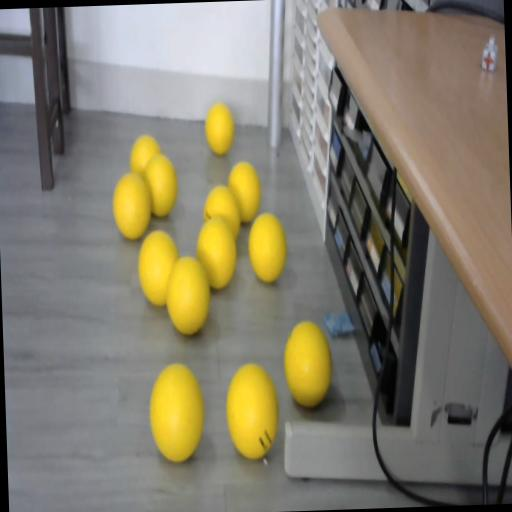FUEL: (147, 360, 205, 462), (223, 361, 280, 459), (282, 317, 334, 409), (162, 255, 212, 336), (194, 215, 238, 289), (246, 210, 287, 282), (110, 172, 152, 239), (142, 151, 180, 218), (226, 160, 262, 223), (204, 102, 234, 155)
